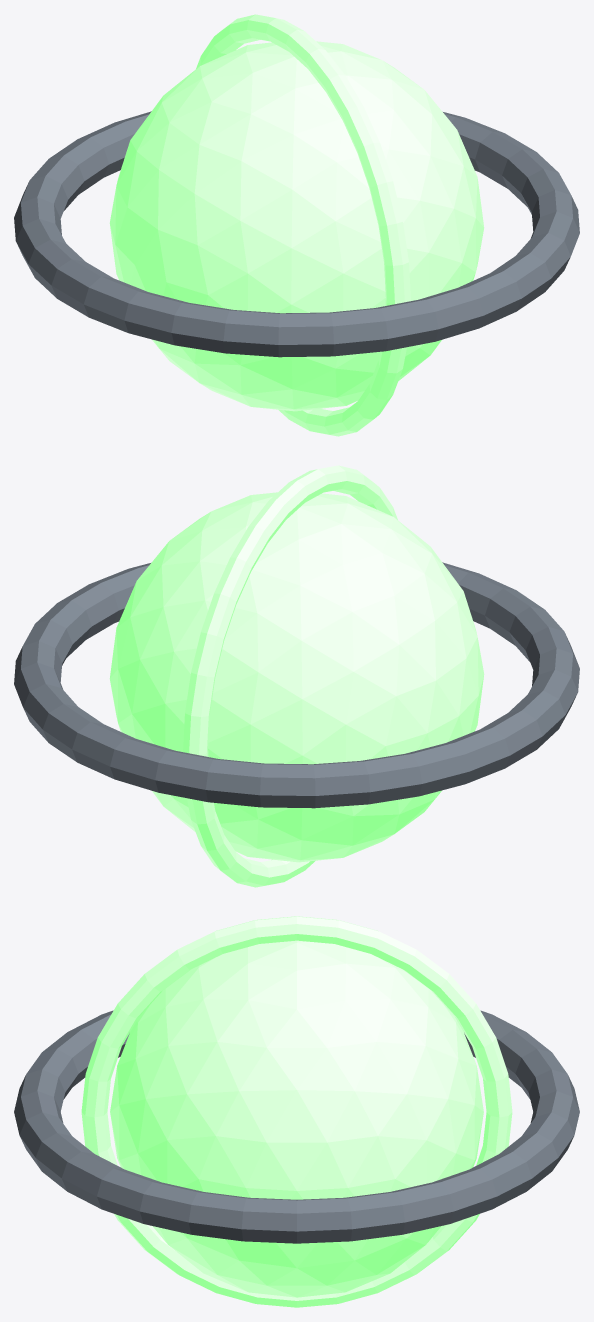
File: radiation_03.glb
3 renders of one model, top to bottom at view 1: azimuth 30°, elevation 25°; view 2: azimuth 150°, elevation 25°; view 3: azimuth 270°, elevation 25°, orthographic.
Visible parts, largest first — view 1: reactor_core, containment, energy; view 2: reactor_core, containment, energy; view 3: reactor_core, containment, energy.
Boxes of the visible parts, <box> form: reactor_core: <box>109,41,484,411</box>; containment: <box>14,111,579,357</box>; energy: <box>196,14,410,436</box>; reactor_core: <box>109,492,484,862</box>; containment: <box>14,562,579,808</box>; energy: <box>183,465,397,887</box>; reactor_core: <box>110,940,483,1297</box>; containment: <box>14,1010,579,1243</box>; energy: <box>81,916,512,1307</box>.
Size of the model in its own units: 2.18 by 1.66 by 2.18.
